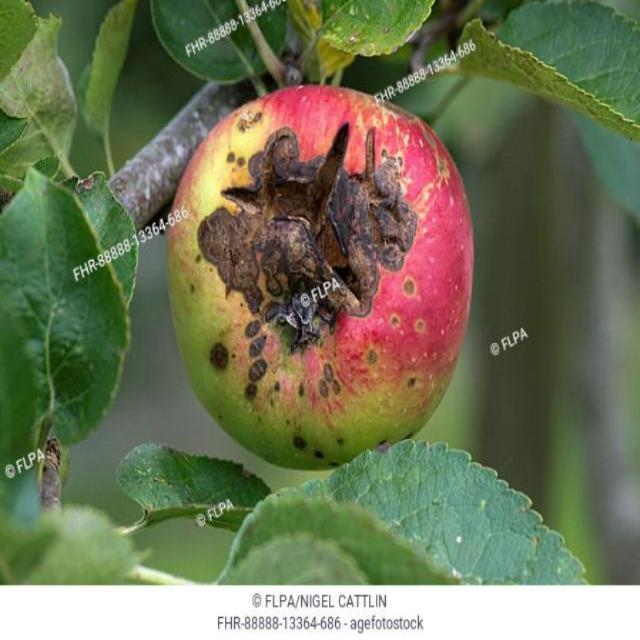Rotten Apple: (153, 51, 474, 452)
